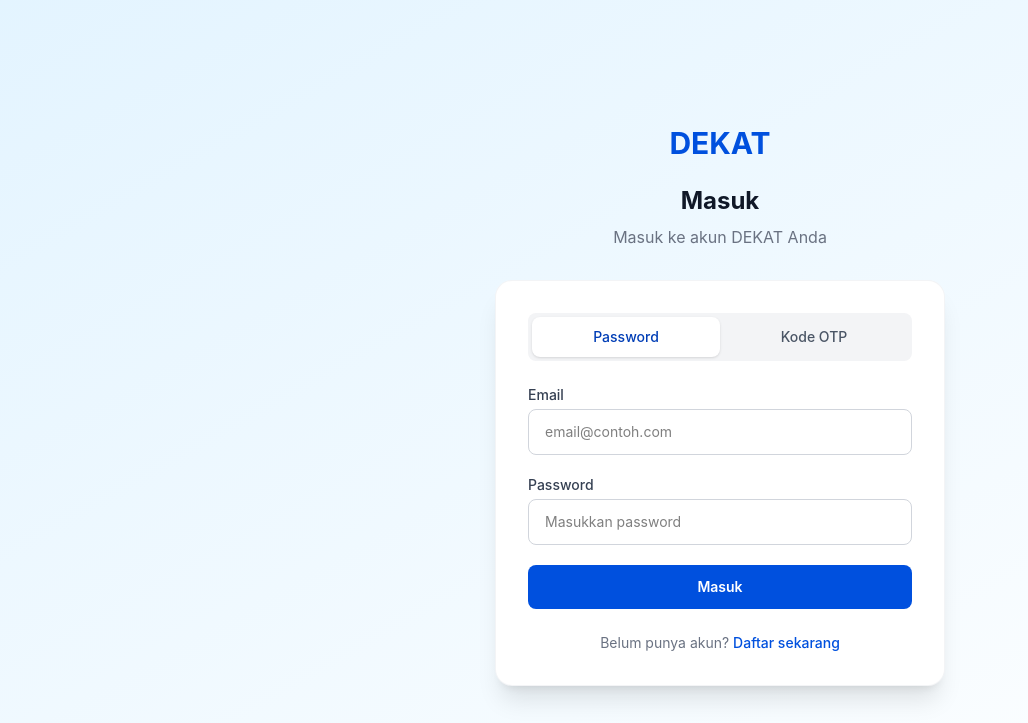
Scenario: LoginPage › shows loading state during password login
This screenshot has width=1028, height=723.
Step 1. Type "user@test.com" into the field labelled "Email" → (720, 432), box [528,409,912,455]
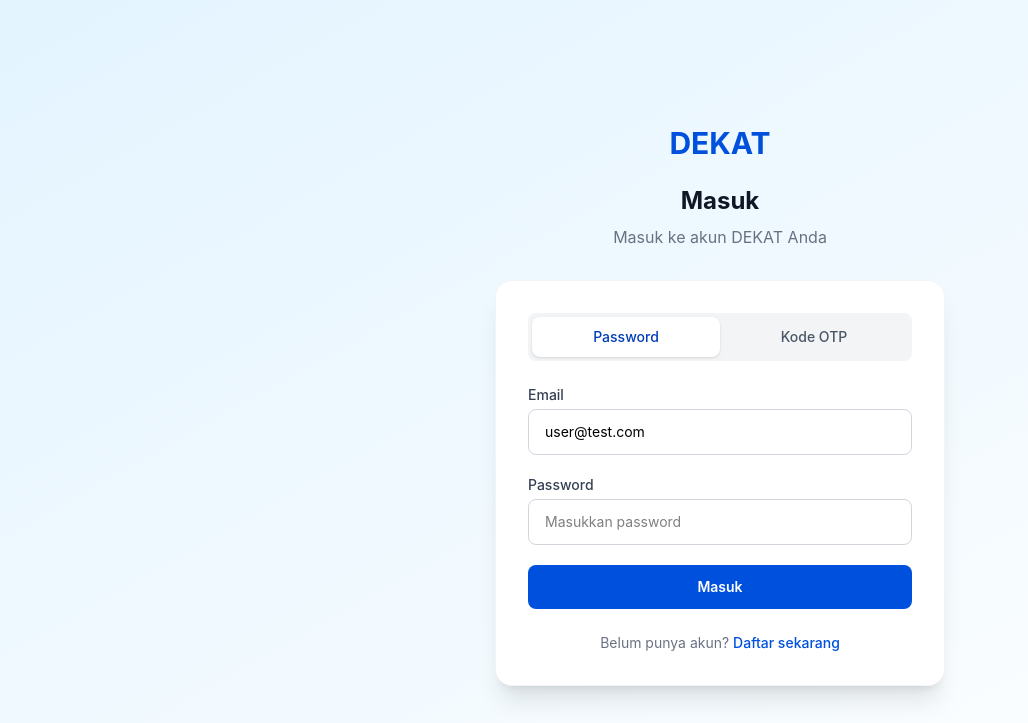
Step 2. Type "password123" into the password field labelled "Password" → (720, 522), box [528,499,912,545]
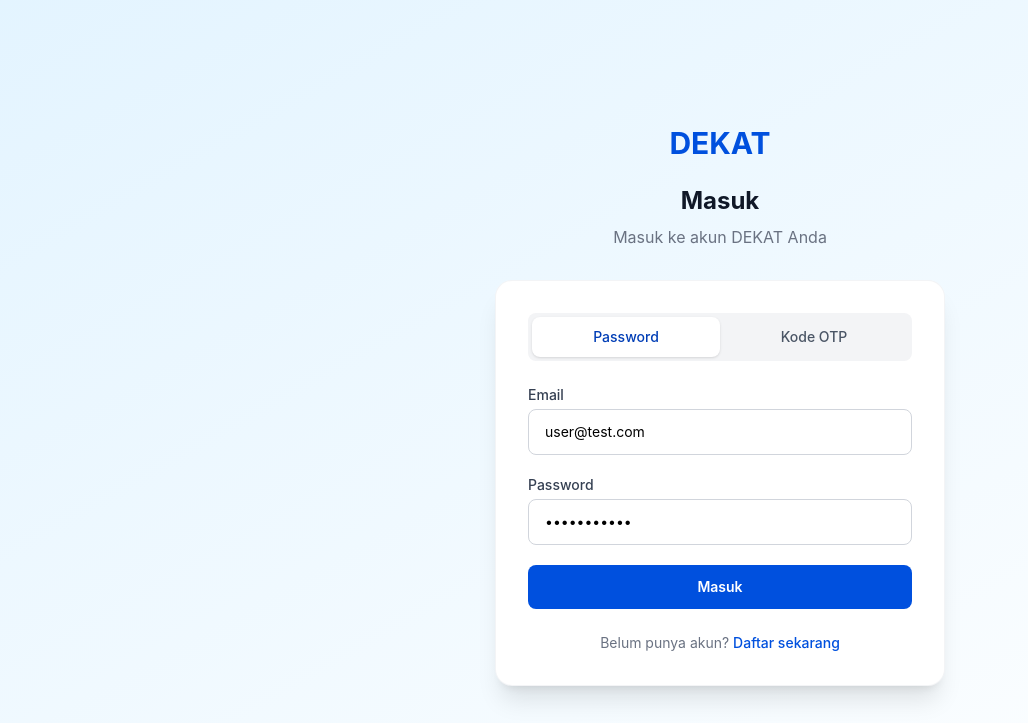
Step 3. Click the button "Masuk" → (720, 587), box [528,565,912,609]
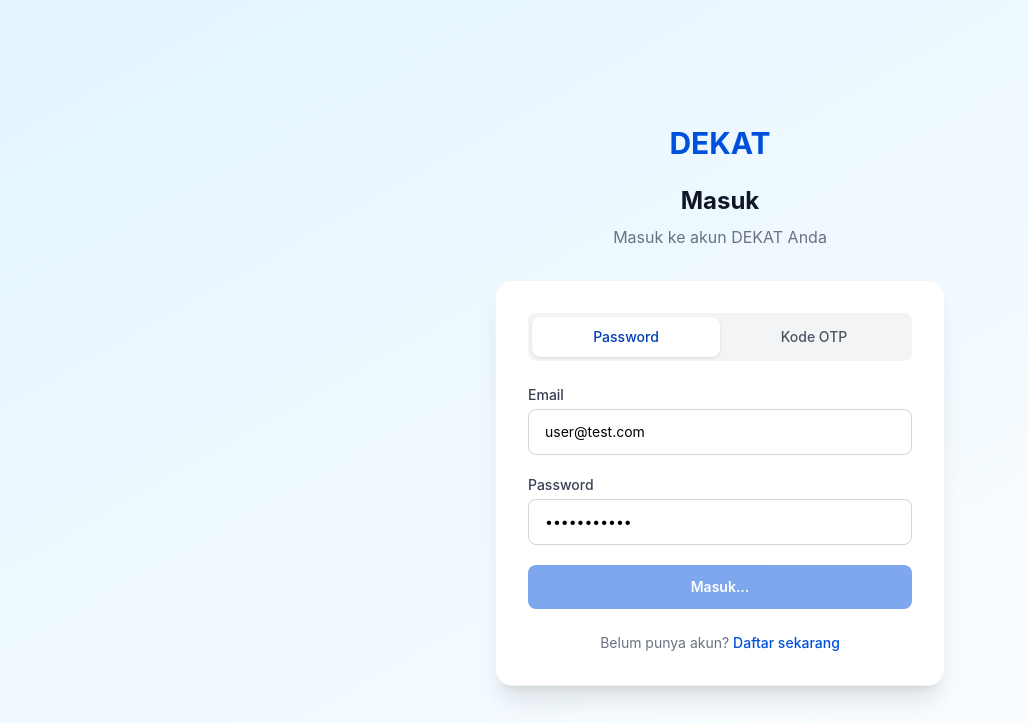
Check: the button "Masuk..." is shown, box [528,565,912,609]
